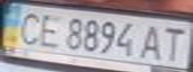4: (115, 19, 142, 57)
8: (60, 15, 87, 52), (78, 16, 103, 53)
9: (96, 18, 121, 55)
A: (136, 21, 169, 61)
C: (12, 8, 45, 46)
E: (33, 10, 66, 49)
T: (157, 24, 190, 62)
